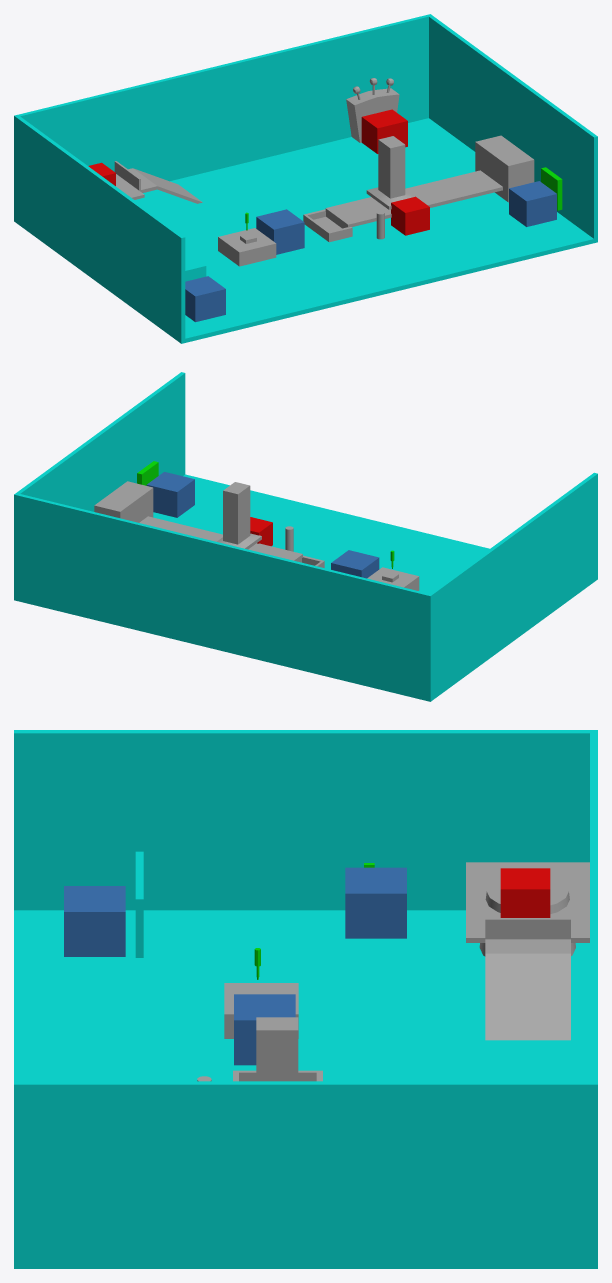
Rendered from sallle_block_color.fbx.
The picture shows the model from 3 angles, top to bottom: view 1: azimuth 30°, elevation 25°; view 2: azimuth 150°, elevation 25°; view 3: azimuth 270°, elevation 25°; orthographic projection. The views are drawn at different scales.
Parts seen in each view (by area): view 1: salle, tapis, presse, trigger_switch_presse, table_outils, generateur, trigger_seau, trigger_outils, mort_electricite, mort_presse, cuve, switch_presse; view 2: salle, tapis, presse, trigger_switch_presse, trigger_outils, table_outils, mort_presse; view 3: salle, cuve, trigger_switch_porte, trigger_seau, presse, trigger_outils, mort_cuve, table_outils, porte_1, porte_2.
Part boxes in pixels (x1,y1,x2,y2): salle: [14, 14, 597, 343]; tapis: [303, 135, 534, 242]; presse: [366, 136, 413, 209]; trigger_switch_presse: [509, 181, 556, 226]; table_outils: [218, 228, 276, 266]; generateur: [346, 78, 399, 142]; trigger_seau: [185, 276, 225, 322]; trigger_outils: [256, 209, 304, 254]; mort_electricite: [361, 109, 407, 153]; mort_presse: [391, 196, 429, 235]; cuve: [116, 168, 202, 203]; switch_presse: [541, 167, 562, 210]; salle: [14, 372, 597, 701]; tapis: [94, 481, 324, 567]; presse: [217, 482, 261, 549]; trigger_switch_presse: [146, 472, 194, 517]; trigger_outils: [331, 550, 379, 578]; table_outils: [367, 567, 419, 590]; mort_presse: [250, 517, 272, 546]; salle: [14, 730, 597, 1268]; cuve: [466, 862, 589, 1040]; trigger_switch_porte: [345, 867, 406, 938]; trigger_seau: [64, 886, 125, 956]; presse: [256, 1017, 298, 1081]; trigger_outils: [234, 994, 295, 1065]; mort_cuve: [500, 868, 550, 917]; table_outils: [224, 983, 298, 1038]; porte_1: [528, 918, 570, 939]; porte_2: [485, 918, 527, 939].
Size of the model in its own units: 102 by 29.43 by 70.96.
